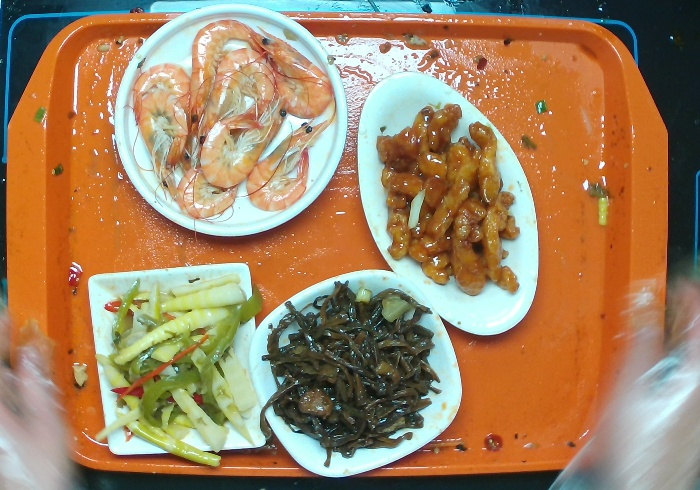HZYJPL-Si_Fang_Die: (84, 259, 268, 459)
HZYJPL-Si_Fang_Yuan_Die: (250, 267, 463, 478)
HZYJPL-Xiao_Yu_Die: (357, 66, 542, 337)
HZYJPL-Xiao_Yuan_Die: (112, 2, 349, 239)
